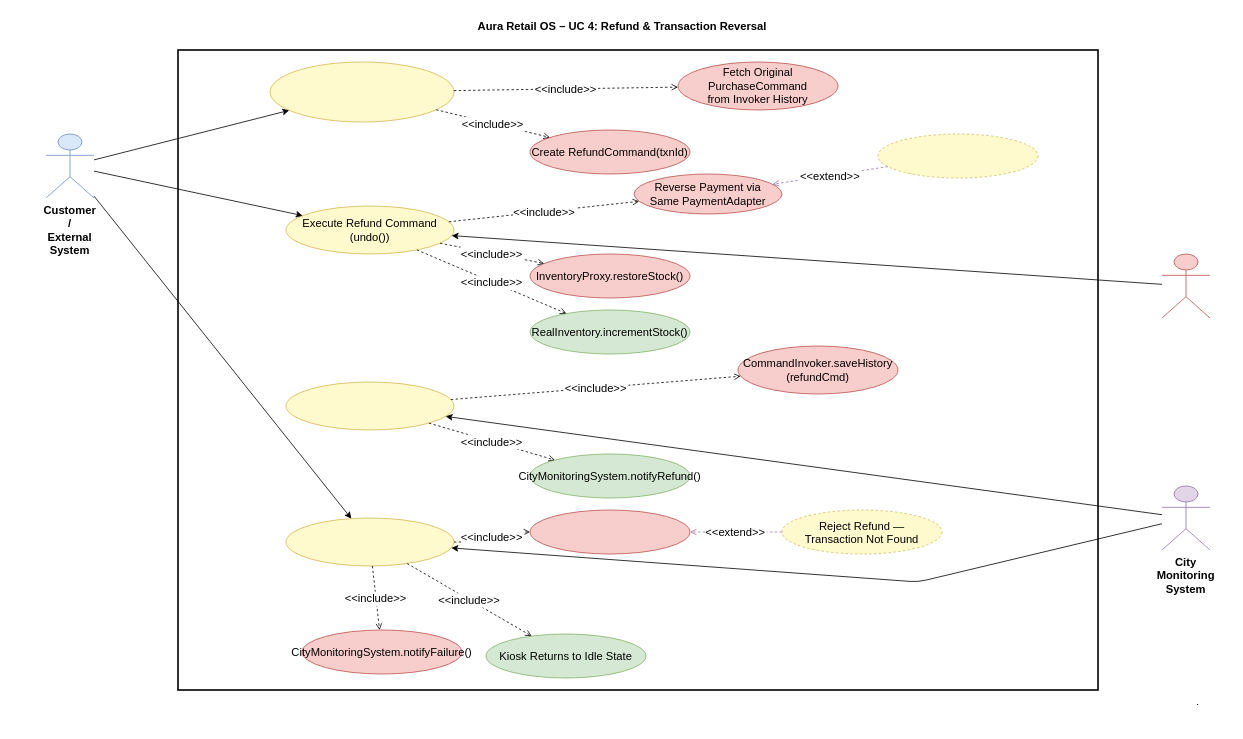
Image size: 1243x739. Some labels were removed from this diagram. Here are the shapes that lost their labels. From the top down, the box of each, then its label:
(269, 61, 454, 122): refundTransaction(transactionId)
(877, 133, 1038, 178): Validate Refund Eligibility (time limit / policy)
(1161, 253, 1210, 318): Payment Gateway
(285, 381, 454, 430): Log Refund Command & Notify
(285, 517, 454, 566): Handle Atomic Failure (Transaction Rollback)
(529, 509, 690, 554): Log Failed Command with Error State
